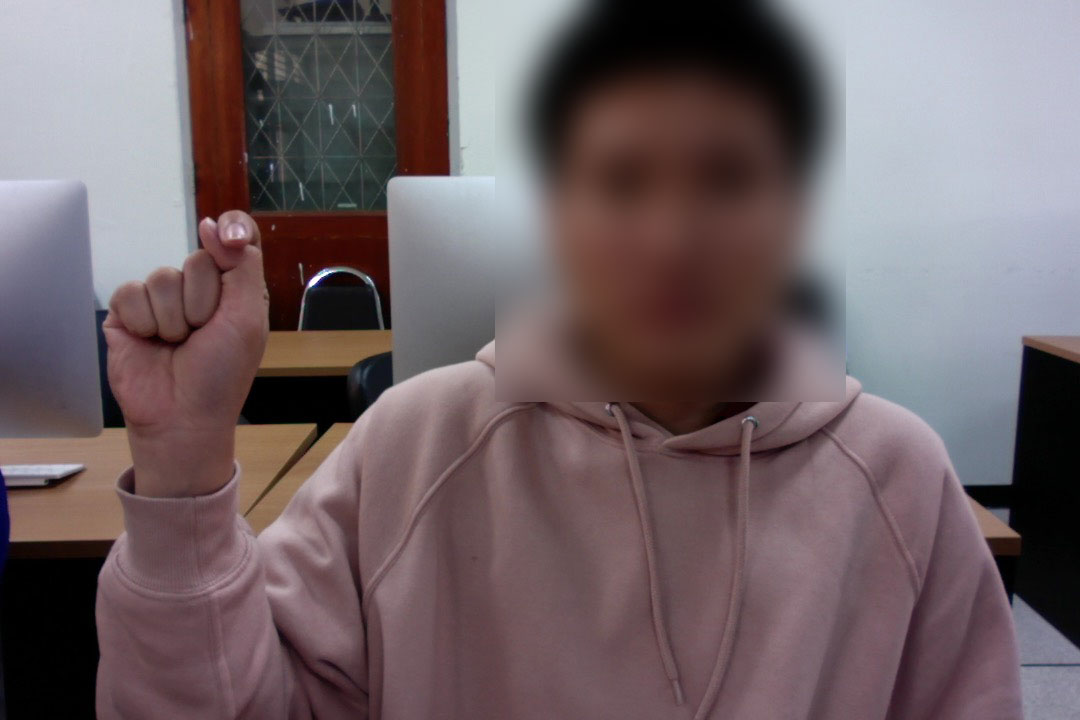tor: (99, 208, 269, 459)
